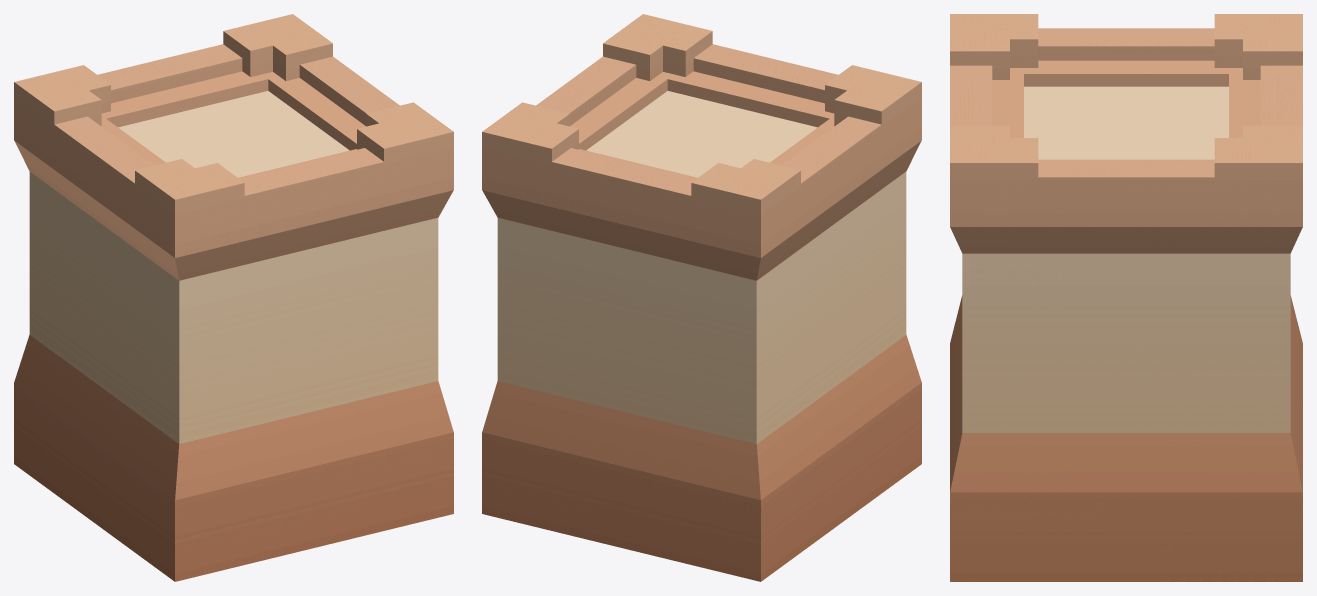
The model's file is tower-square.glb.
3 renders of one model, left to right at view 1: azimuth 30°, elevation 25°; view 2: azimuth 150°, elevation 25°; view 3: azimuth 270°, elevation 25°, orthographic. The views are drawn at different scales.
Visible parts, largest first — view 1: tower-square; view 2: tower-square; view 3: tower-square.
Boxes of the visible parts, x1,y1,x2,y2 form: tower-square: (14, 14, 453, 581); tower-square: (482, 14, 921, 581); tower-square: (950, 14, 1302, 581).
Bounding box in the file's own units: 1 × 1.31 × 1.
Materials: 1 (1 with a texture image).
